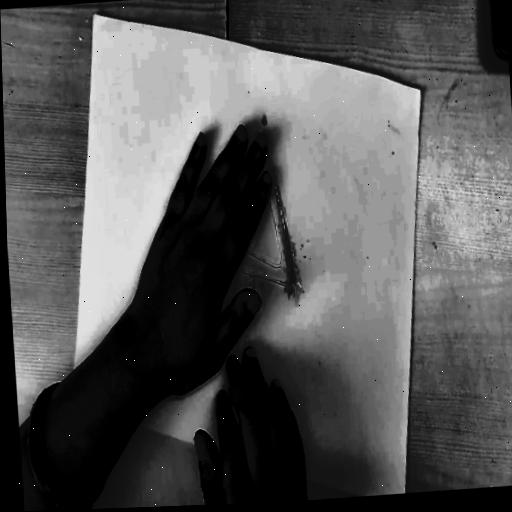bottom_left: (69, 388, 80, 408)
signboard: (175, 126, 316, 414)
top_left: (88, 7, 97, 21)
top_right: (414, 78, 425, 99)
